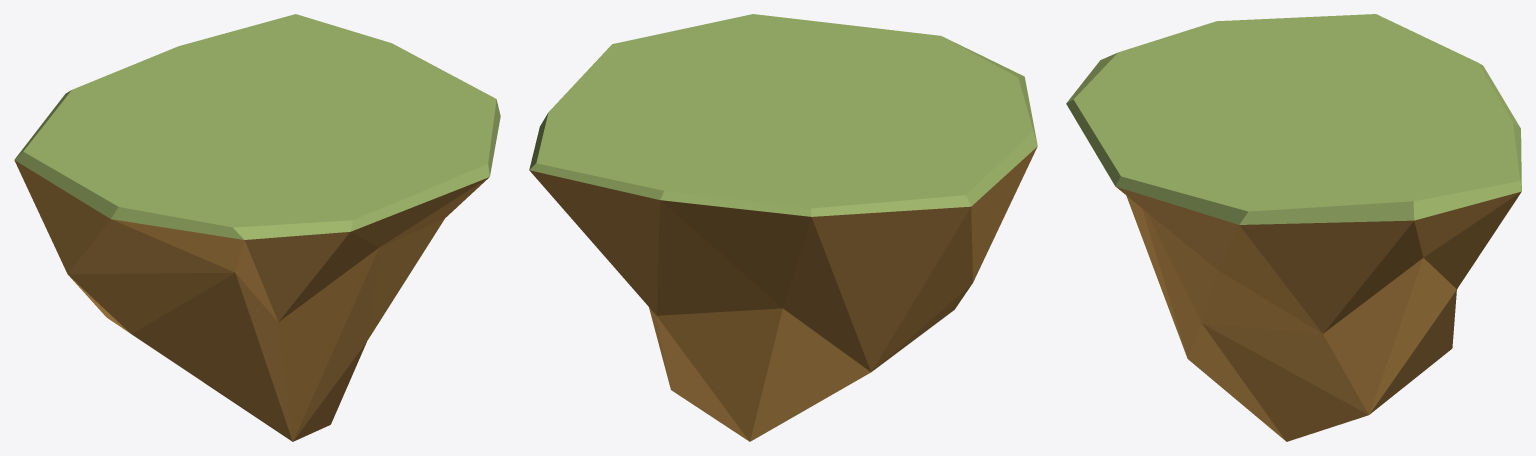
File: SmallestHoverWorldRecolored.fbx
3 renders of one model, left to right at view 1: azimuth 30°, elevation 25°; view 2: azimuth 150°, elevation 25°; view 3: azimuth 270°, elevation 25°, orthographic. The views are drawn at different scales.
Parts seen in each view (by area): view 1: Icosphere; view 2: Icosphere; view 3: Icosphere.
Part boxes in pixels (x1,y1,x2,y2): Icosphere: (14, 14, 500, 441); Icosphere: (529, 14, 1037, 441); Icosphere: (1066, 14, 1521, 441).
Size of the model in its own units: 865 by 604 by 829.
